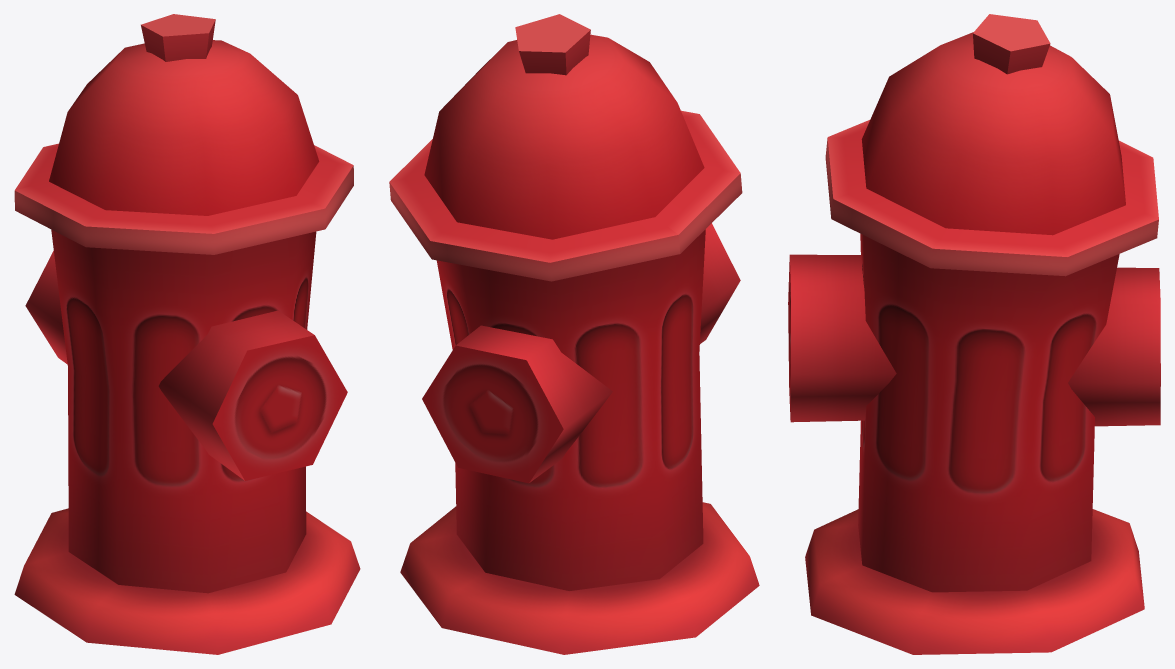
File: FireHydrant.FBX
3 views of the same model, side by side, from view 1: azimuth 30°, elevation 25°; view 2: azimuth 150°, elevation 25°; view 3: azimuth 270°, elevation 25° (orthographic). The views are drawn at different scales.
Visible parts, largest first — view 1: FireHydrant; view 2: FireHydrant; view 3: FireHydrant.
Boxes of the visible parts, x1=… form: FireHydrant: x1=14, y1=14, x2=360, y2=654; FireHydrant: x1=389, y1=14, x2=759, y2=654; FireHydrant: x1=788, y1=14, x2=1160, y2=654.
Bounding box in the file's own units: 51.27 × 92.39 × 55.7.
1 material, 1 textured.
